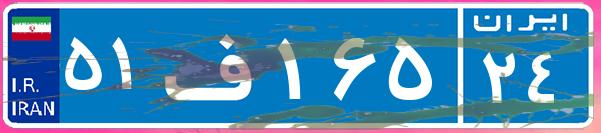1: (273, 28, 330, 110), (110, 28, 158, 105)
2: (475, 38, 525, 113)
4: (525, 38, 570, 115)
5: (385, 28, 445, 110), (57, 26, 110, 107)
6: (330, 28, 385, 110)
ف: (158, 15, 273, 115)
